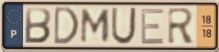B: (23, 7, 53, 45)
D: (53, 5, 81, 47)
E: (139, 7, 166, 46)
M: (79, 8, 112, 45)
R: (166, 7, 196, 46)
U: (110, 6, 138, 46)
